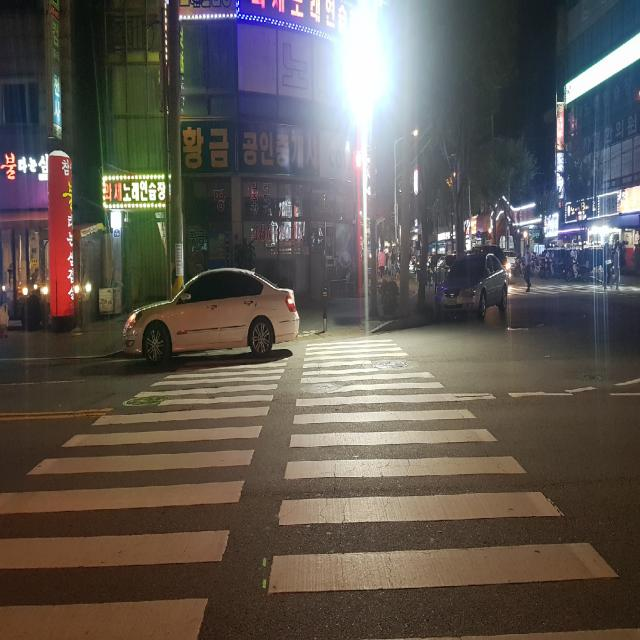빨간불: (353, 147, 365, 196)
횡단보도: (0, 339, 640, 640), (508, 283, 640, 295)
